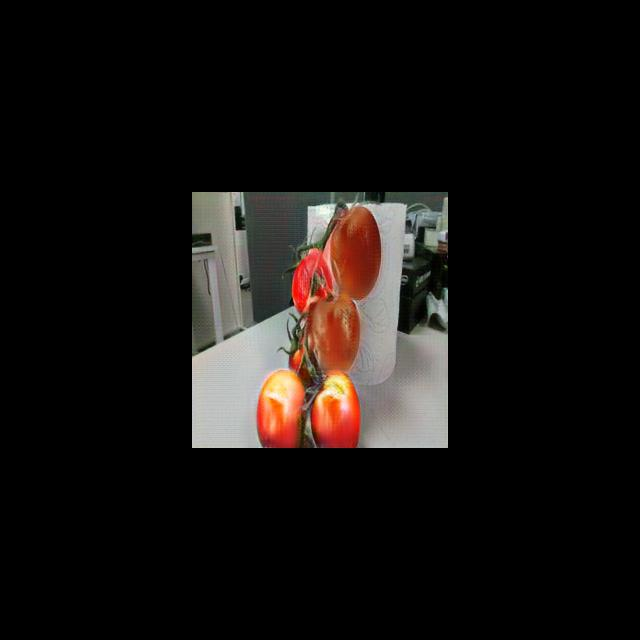tomato: (311, 295, 360, 370), (289, 249, 335, 312)
